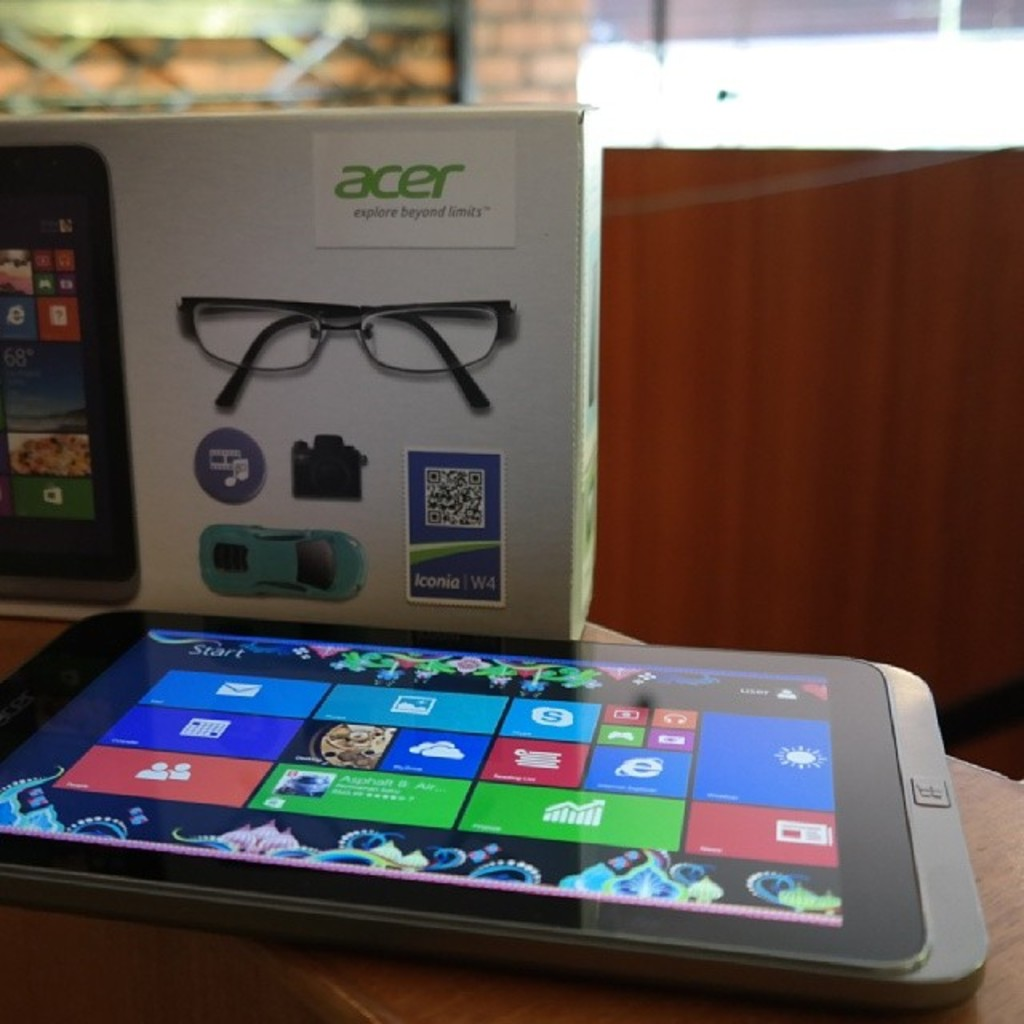Mobile-phone: (0, 630, 971, 978)
